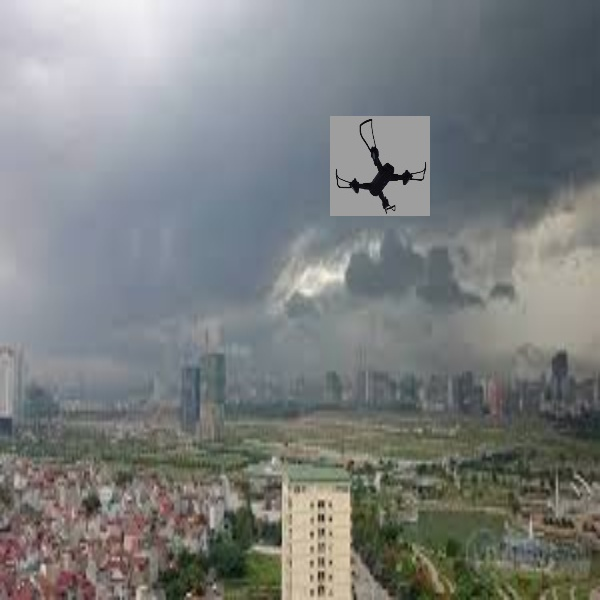drone: (329, 114, 431, 217)
